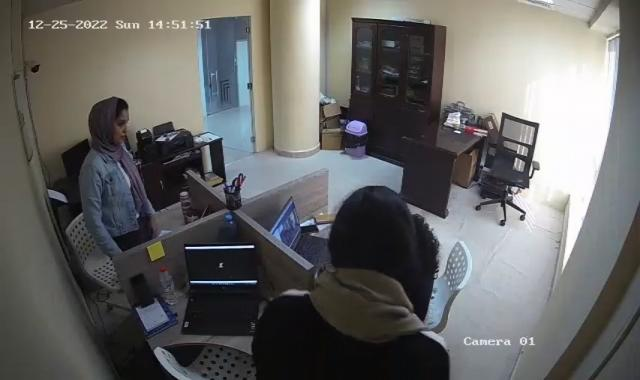no_hairnet: (334, 189, 414, 276), (90, 99, 130, 142)
